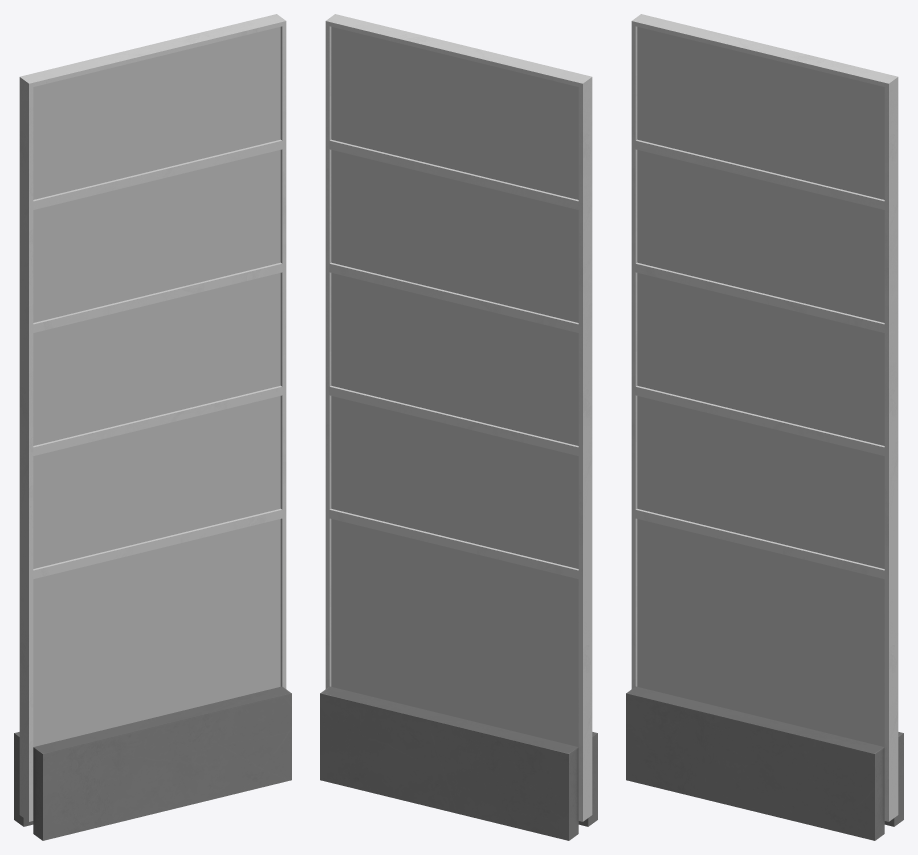
The model's file is SM_SecurityGate_02.fbx.
3 renders of one model, left to right at view 1: azimuth 30°, elevation 25°; view 2: azimuth 150°, elevation 25°; view 3: azimuth 330°, elevation 25°, orthographic.
Visible parts, largest first — view 1: SM_SecurityGate_02_LOD0; view 2: SM_SecurityGate_02_LOD0; view 3: SM_SecurityGate_02_LOD0.
Boxes of the visible parts, bbox=[...] form: SM_SecurityGate_02_LOD0: bbox=[14, 14, 291, 840]; SM_SecurityGate_02_LOD0: bbox=[320, 14, 597, 840]; SM_SecurityGate_02_LOD0: bbox=[626, 14, 903, 840].
Size of the model in its own units: 62 by 12 by 173.
